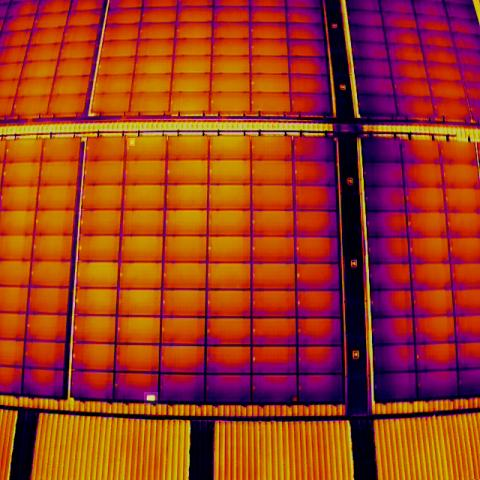fault: (144, 392, 158, 404), (290, 395, 298, 405), (127, 138, 135, 146)
